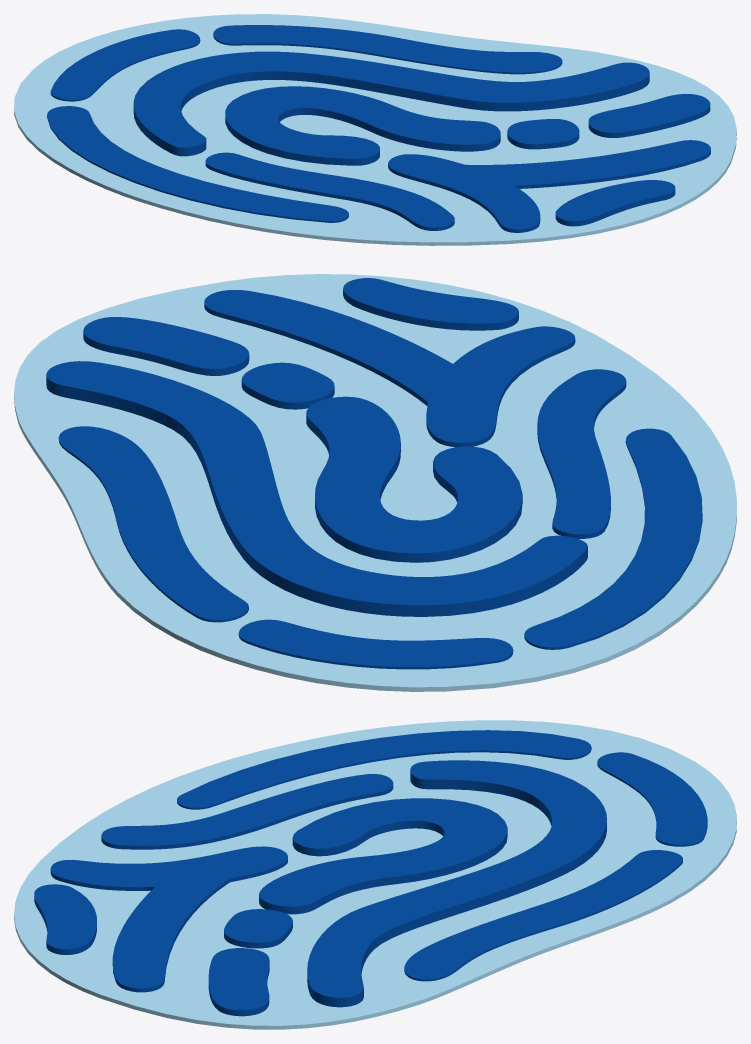
The model's file is emoji_u1fac6.glb.
3 views of the same model, one above another, from view 1: azimuth 30°, elevation 25°; view 2: azimuth 150°, elevation 25°; view 3: azimuth 270°, elevation 25° (orthographic). The views are drawn at different scales.
Visible parts, largest first — view 1: emoji_u1fac6; view 2: emoji_u1fac6; view 3: emoji_u1fac6.
Boxes of the visible parts, bbox=[...] form: emoji_u1fac6: bbox=[14, 14, 736, 245]; emoji_u1fac6: bbox=[14, 274, 736, 691]; emoji_u1fac6: bbox=[14, 720, 736, 1029].
Bounding box in the file's own units: 0.0343 × 0.0012 × 0.0343.
